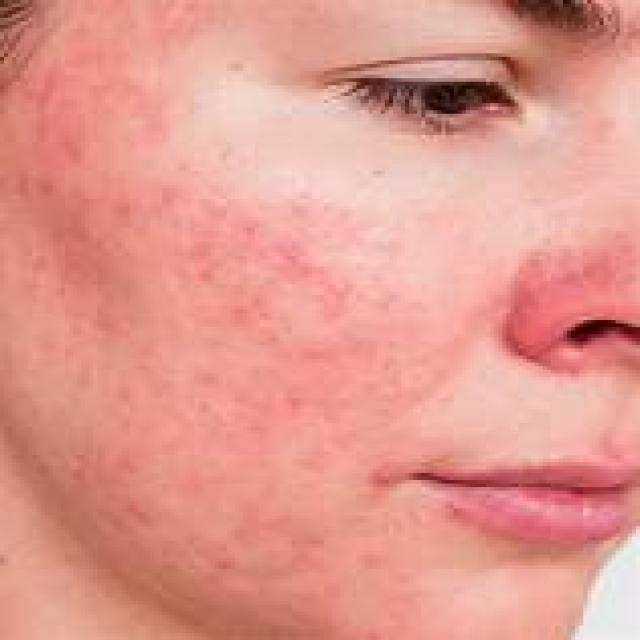Rosacea: (25, 33, 358, 588)
